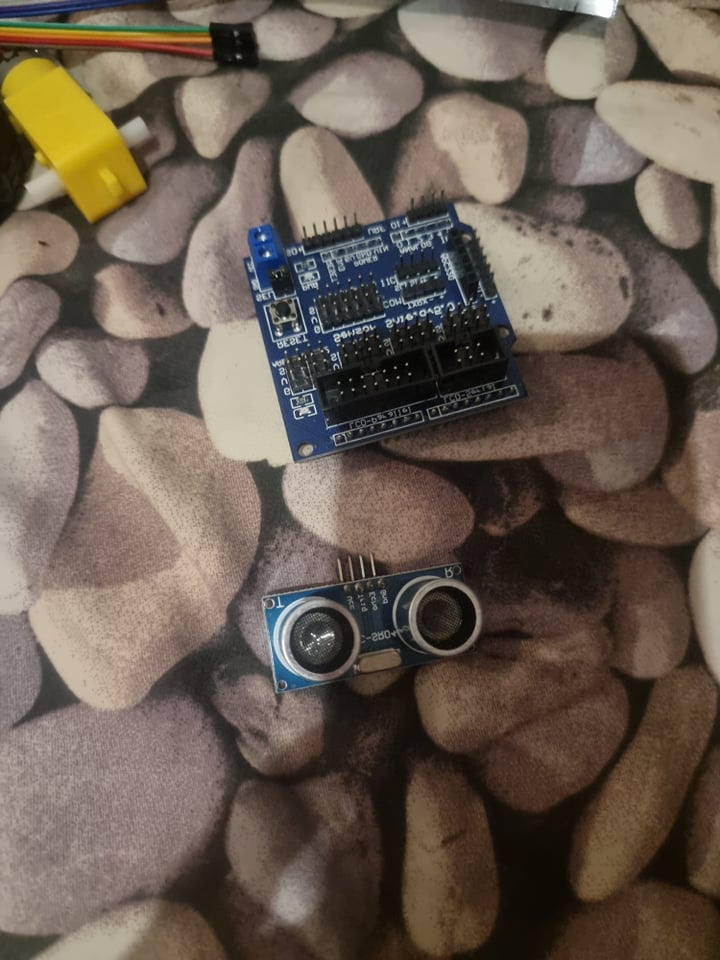5V EXPANSION: (242, 191, 525, 464)
SENSOR: (260, 563, 486, 697)
